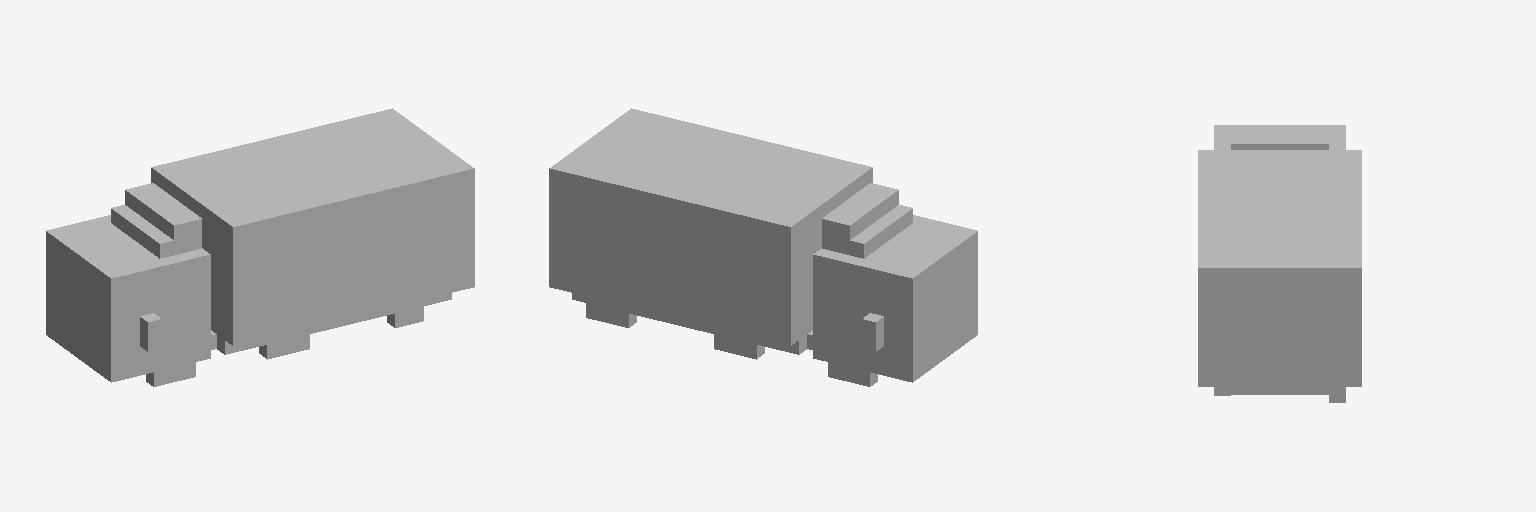
Rendered from truck.obj.
3 views of the same model, side by side, from view 1: azimuth 30°, elevation 25°; view 2: azimuth 150°, elevation 25°; view 3: azimuth 270°, elevation 25° (orthographic).
Visible parts, largest first — view 1: object 1; view 2: object 1; view 3: object 1.
Boxes of the visible parts, x1=… form: object 1: x1=46, y1=108, x2=474, y2=386; object 1: x1=549, y1=108, x2=977, y2=386; object 1: x1=1198, y1=125, x2=1361, y2=402.
Bounding box in the file's own units: 2.5 × 1 × 1.